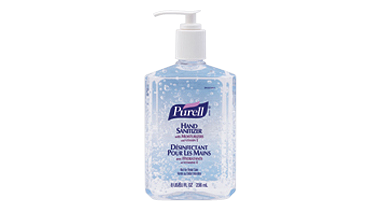Sanitizer: (139, 8, 243, 204)
